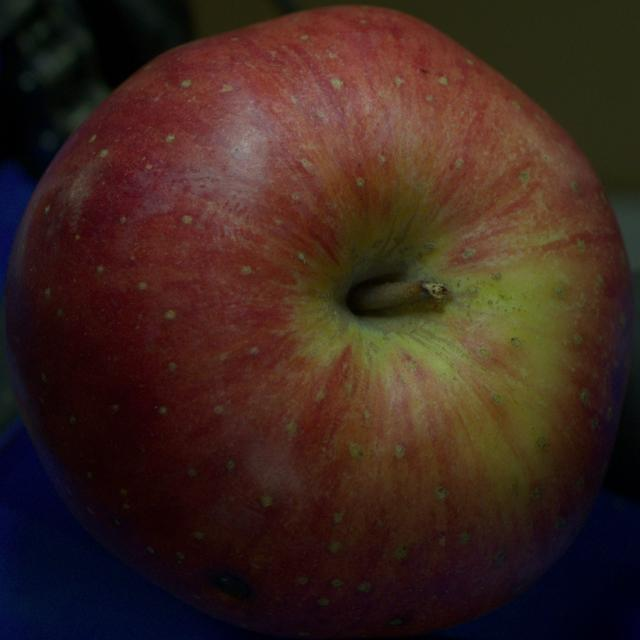apple: (4, 6, 633, 639)
pest: (210, 572, 252, 599)
